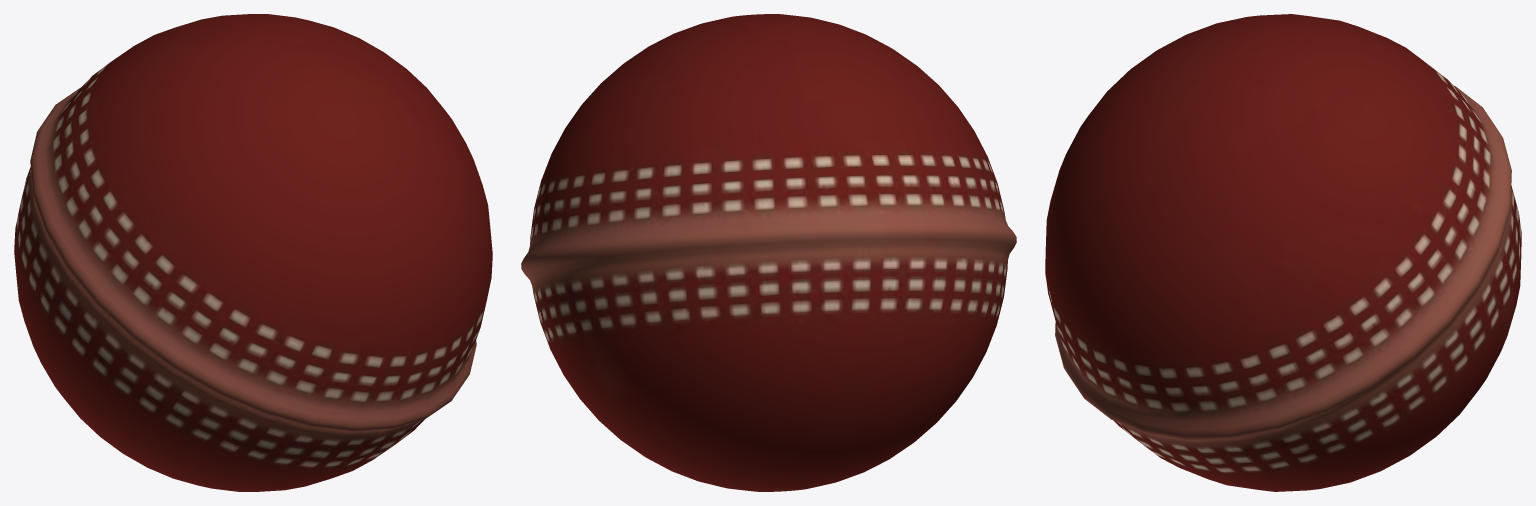
File: cricket-ball.glb
The picture shows the model from 3 angles, left to right: view 1: azimuth 30°, elevation 25°; view 2: azimuth 150°, elevation 25°; view 3: azimuth 270°, elevation 25°; orthographic projection.
Visible parts, largest first — view 1: ball; view 2: ball; view 3: ball.
Part boxes in pixels (box(x1,y1,x2,y2)): ball: box(14, 14, 492, 491); ball: box(521, 14, 1016, 491); ball: box(1045, 14, 1521, 491).
Bounding box in the file's own units: 0.0711 × 0.0713 × 0.071.
Materials: 1 (1 with a texture image).
